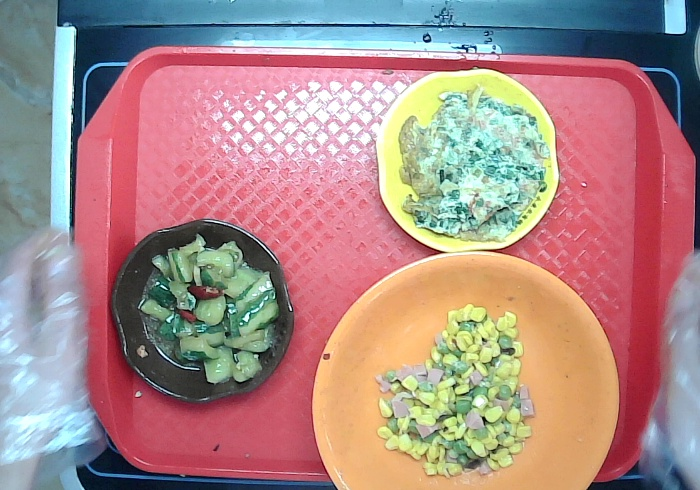YKMZ-Huang_Se_Ao_Bian_Wan: (373, 51, 569, 267)
YKMZ-Ju_Se_Tang_Wan: (307, 248, 634, 490)
YKMZ-Ka_Fei_Ao_Bian_Wan: (99, 215, 298, 411)
